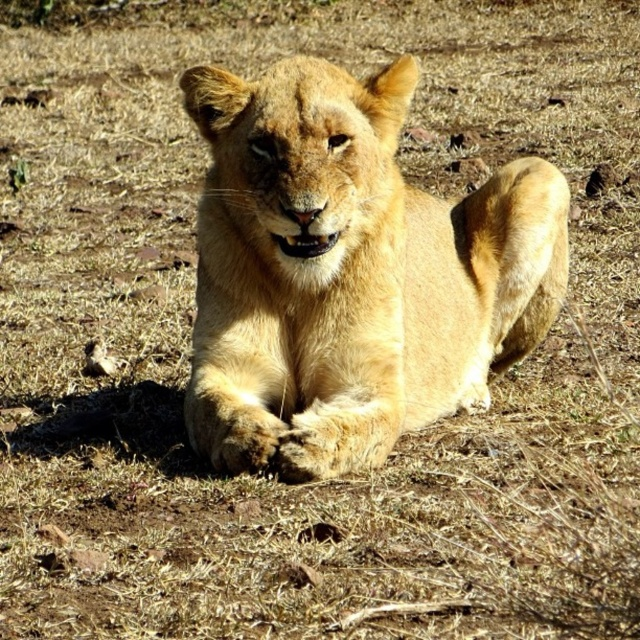Lion: (178, 50, 573, 479)
